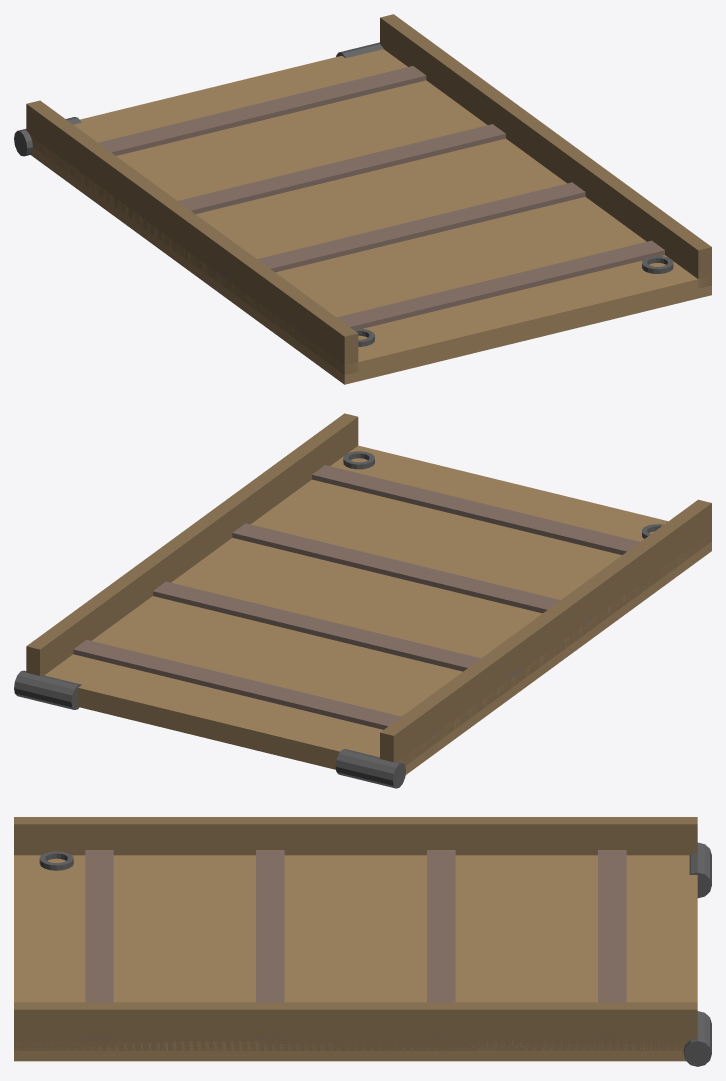
File: drawbridge.gltf
The picture shows the model from 3 angles, top to bottom: view 1: azimuth 30°, elevation 25°; view 2: azimuth 150°, elevation 25°; view 3: azimuth 270°, elevation 25°; orthographic projection. The views are drawn at different scales.
Visible parts, largest first — view 1: Object_58, SideRail_L, SideRail_R, CrossBeam_3, CrossBeam_2, CrossBeam_1, CrossBeam_4; view 2: Object_58, SideRail_L, SideRail_R, CrossBeam_2, CrossBeam_1, CrossBeam_3, CrossBeam_4, Hinge_L, Hinge_R; view 3: Object_58, SideRail_R, SideRail_L, CrossBeam_4, CrossBeam_3, CrossBeam_2, CrossBeam_1, Hinge_R, Hinge_L, ChainLoop_L.
Part boxes in pixels (x1,y1,x2,y2): Object_58: (30,49,711,384); SideRail_L: (26,100,358,374); SideRail_R: (380,14,711,288); CrossBeam_3: (218,182,585,281); CrossBeam_2: (139,124,505,223); CrossBeam_1: (59,66,426,166); CrossBeam_4: (298,240,664,340); Object_58: (44,445,711,774); SideRail_L: (380,499,711,765); SideRail_R: (26,413,358,675); CrossBeam_2: (153,581,519,681); CrossBeam_1: (73,639,440,739); CrossBeam_3: (232,523,590,623); CrossBeam_4: (312,465,639,554); Hinge_L: (335,749,405,788); Hinge_R: (14,670,81,709); Object_58: (14,855,697,1061); SideRail_R: (14,1002,697,1050); SideRail_L: (14,817,697,855); CrossBeam_4: (85,850,113,1040); CrossBeam_3: (256,850,284,1040); CrossBeam_2: (427,850,455,1040); CrossBeam_1: (598,850,626,1040); Hinge_R: (683,1011,711,1066); Hinge_L: (689,842,711,898); ChainLoop_L: (39,851,73,870).
Size of the model in its own units: 1.65 by 0.21 by 2.45.
